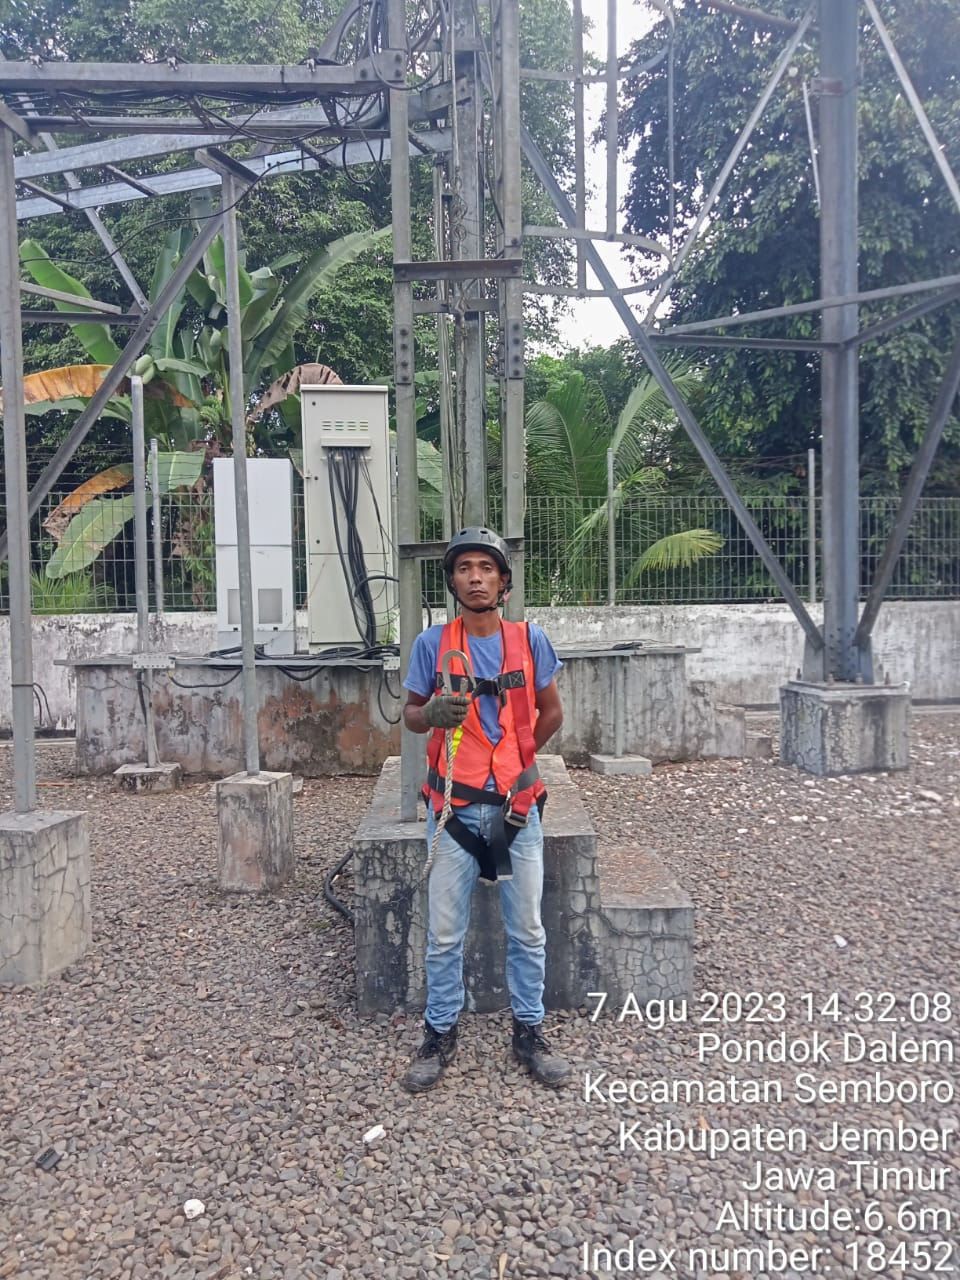PENGGUNAAN_ROMPI: (441, 620, 535, 801)
PENGGUNAAN_SEPATU: (512, 1014, 572, 1089)
